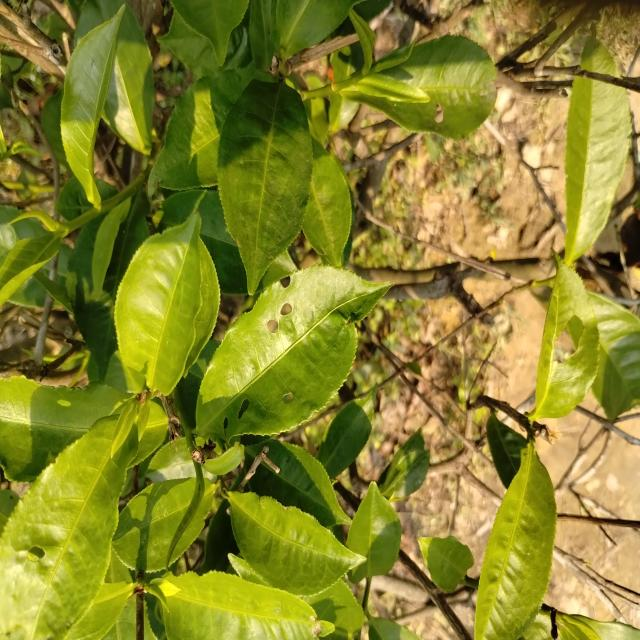Leaf: (196, 265, 388, 441), (0, 418, 137, 640), (217, 79, 313, 294), (474, 441, 556, 640), (115, 214, 202, 396), (347, 36, 496, 139), (228, 492, 365, 595), (66, 213, 148, 381), (148, 69, 257, 195), (0, 376, 128, 482), (61, 9, 124, 207), (565, 77, 631, 264), (76, 0, 155, 155), (164, 571, 332, 640), (531, 254, 599, 420), (159, 189, 247, 294), (245, 440, 350, 527), (113, 478, 195, 572), (302, 139, 352, 267), (590, 293, 640, 420), (317, 386, 377, 478), (347, 483, 401, 582), (173, 0, 248, 65), (276, 0, 355, 58), (0, 232, 62, 305), (158, 11, 221, 78), (90, 198, 131, 300), (298, 579, 364, 640), (66, 581, 134, 640), (171, 480, 215, 563), (379, 431, 430, 501), (418, 536, 473, 591), (146, 438, 195, 483), (41, 88, 66, 166), (249, 0, 275, 71), (55, 176, 93, 220), (256, 251, 296, 292), (582, 35, 618, 78), (228, 553, 268, 585), (96, 179, 117, 200), (202, 460, 216, 482)
